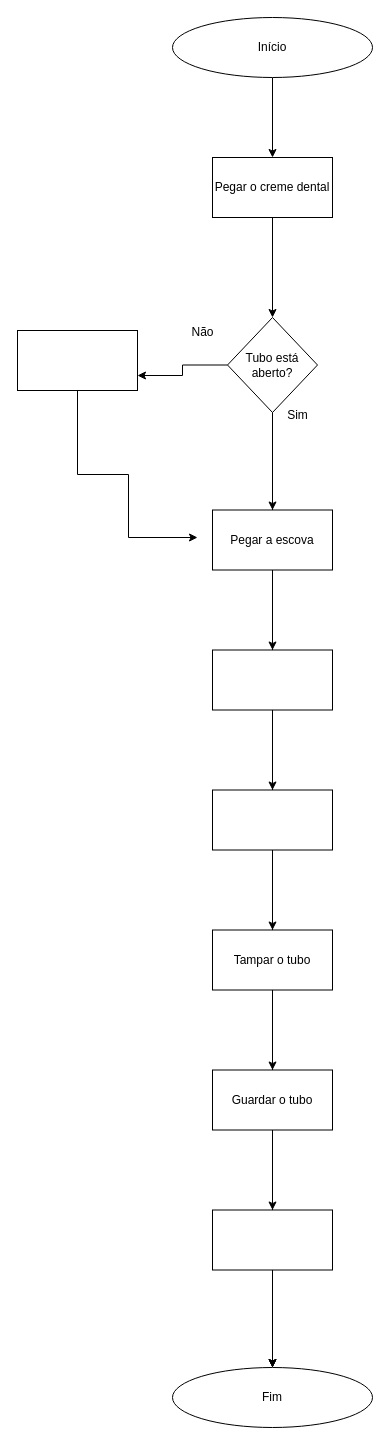
This 390x1445 diagram has some shape labels left out. Here are the shapes that lost their labels. From the top down, the box of each, then its label:
(16, 330, 138, 390): Abrir o tubo
(212, 649, 332, 710): Colocar a pasta na escova
(212, 789, 332, 850): Escovar a boca
(212, 1209, 332, 1270): Guardar a escova
